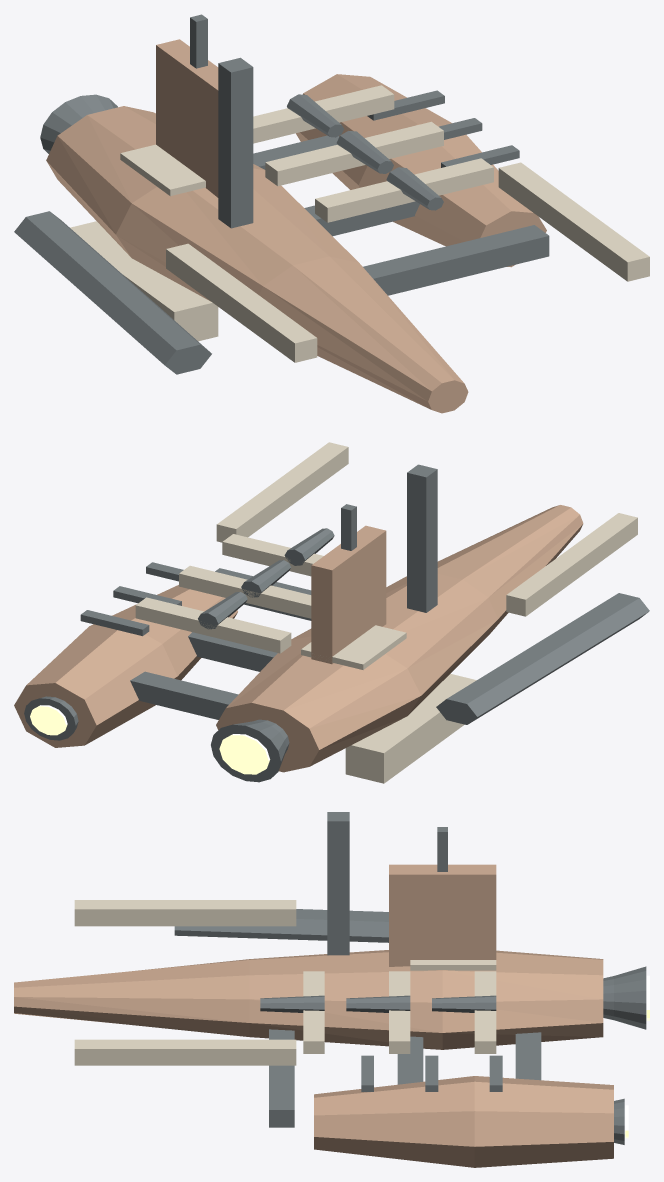
3 renders of one model, top to bottom at view 1: azimuth 30°, elevation 25°; view 2: azimuth 150°, elevation 25°; view 3: azimuth 270°, elevation 25°, orthographic. The views are drawn at different scales.
Size of the model in its own units: 10.46 by 5.63 by 13.76.
